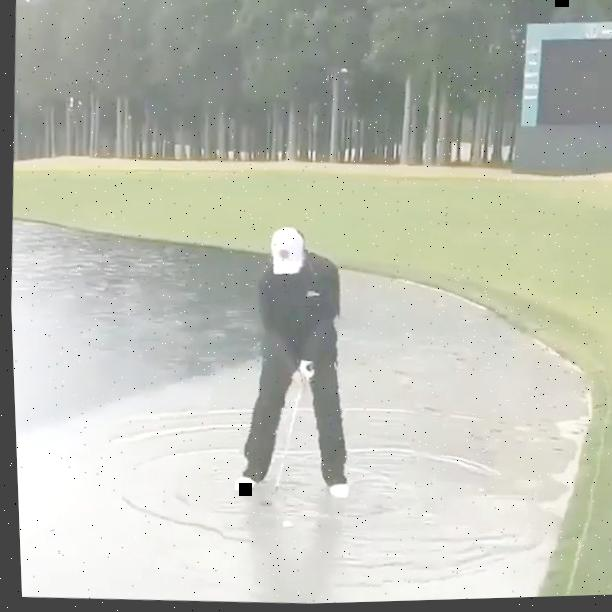ClubHead: (253, 498, 269, 508)
GolfBall: (275, 519, 287, 530)
